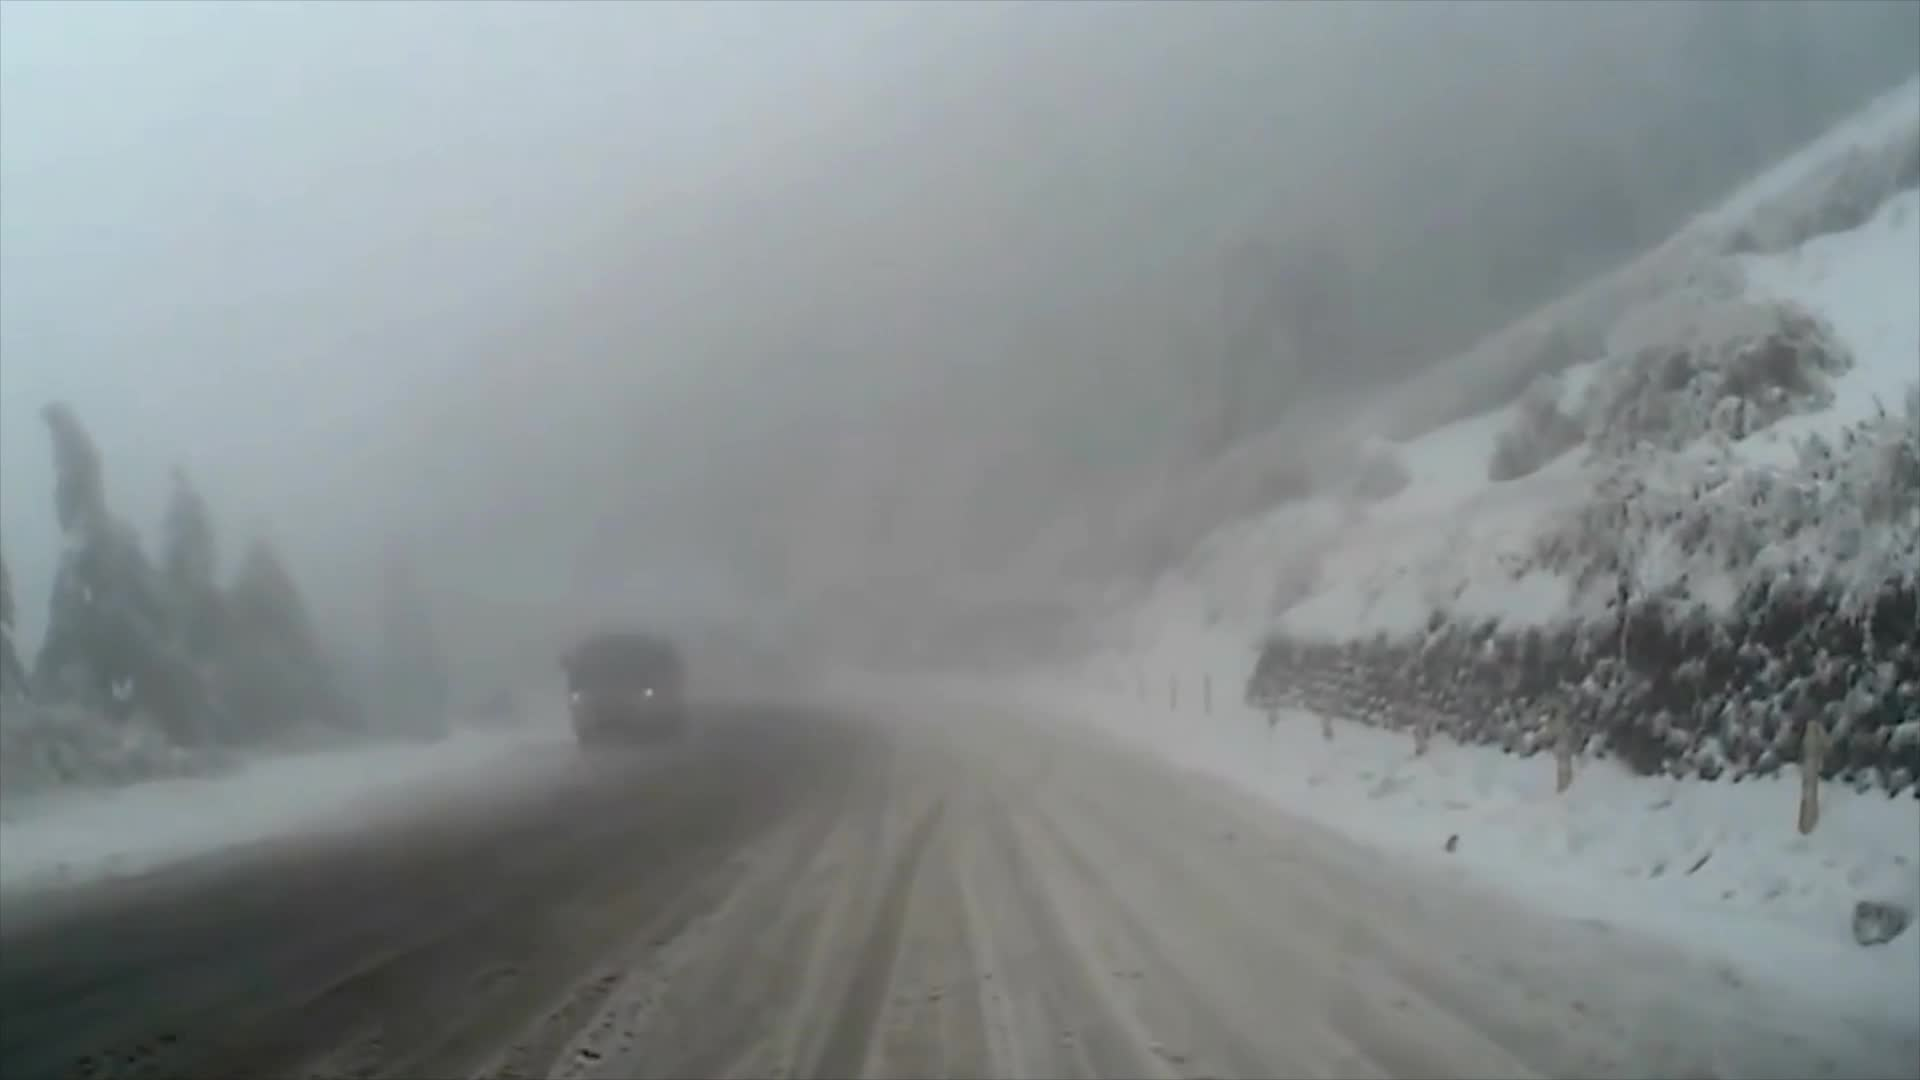vehicle: (556, 624, 684, 738)
